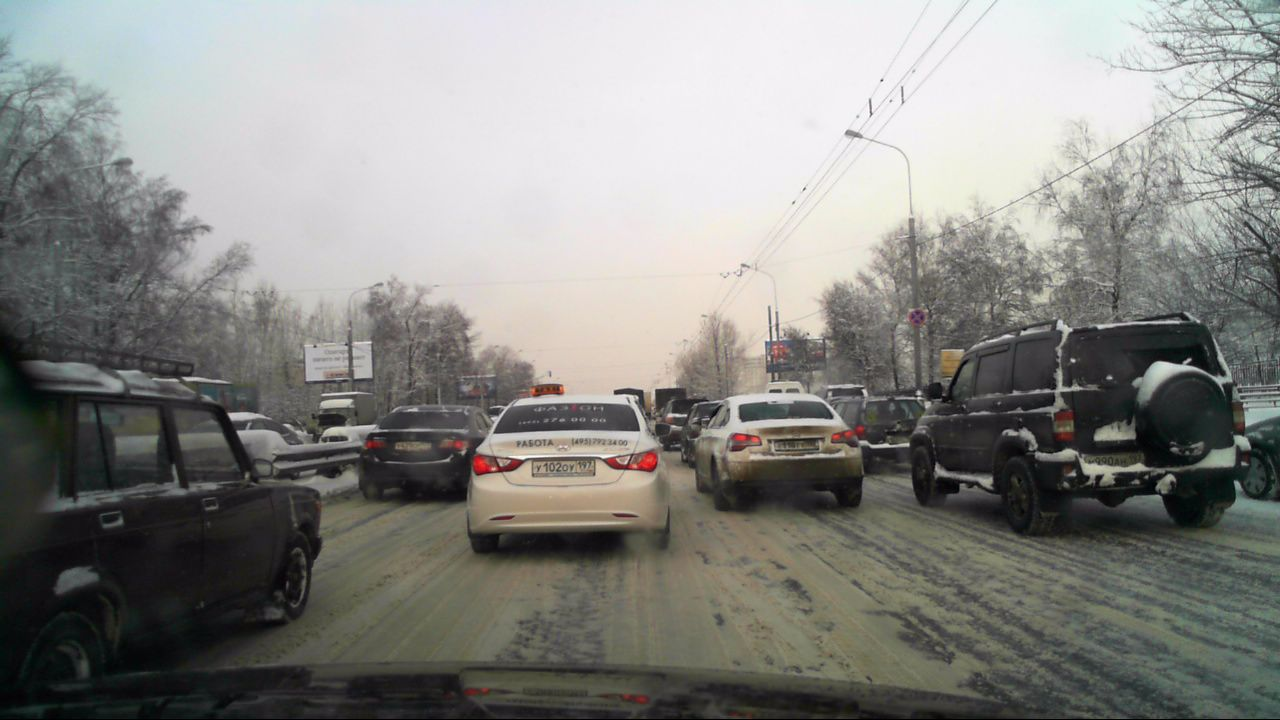No Parking: (905, 309, 926, 331)
